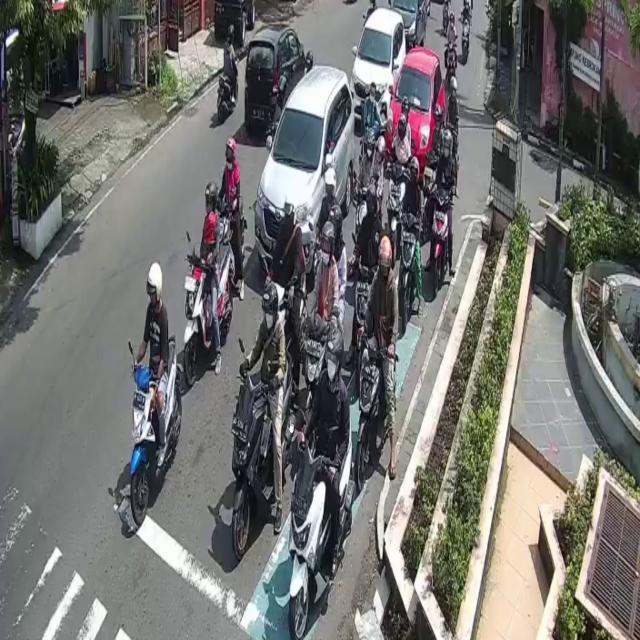bus: (289, 411, 354, 640), (233, 360, 295, 559), (130, 332, 182, 527), (181, 240, 231, 385), (359, 343, 399, 489), (397, 212, 418, 333), (430, 191, 450, 300), (216, 64, 240, 124)
motorcycle: (255, 63, 356, 273), (386, 46, 446, 180), (244, 24, 307, 138), (358, 1, 412, 118), (399, 0, 430, 52)
